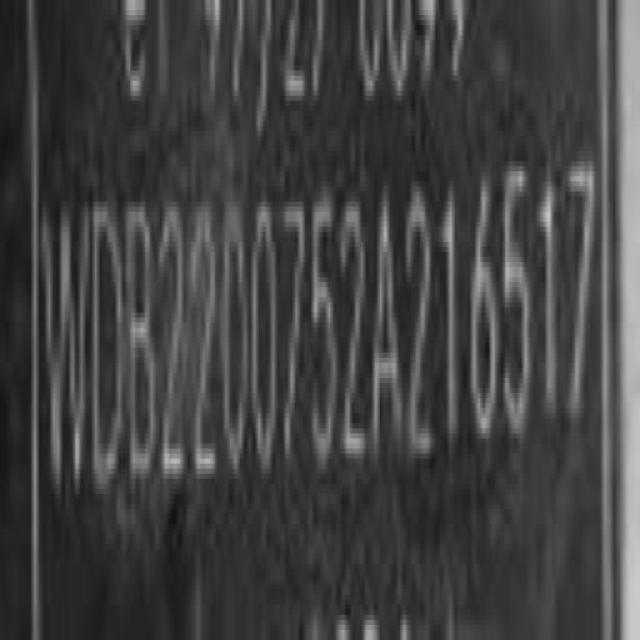0: (223, 200, 249, 486), (253, 200, 279, 483)
1: (538, 154, 565, 440), (439, 175, 459, 469)
2: (160, 199, 190, 492), (407, 180, 436, 467), (193, 204, 221, 492), (341, 191, 367, 478)
5: (502, 153, 533, 446), (310, 188, 337, 478)
6: (470, 171, 499, 455)
7: (567, 150, 598, 436), (284, 192, 308, 483)
A: (372, 192, 403, 472)
B: (128, 200, 159, 492)
D: (92, 202, 124, 496)
W: (40, 200, 91, 507)
